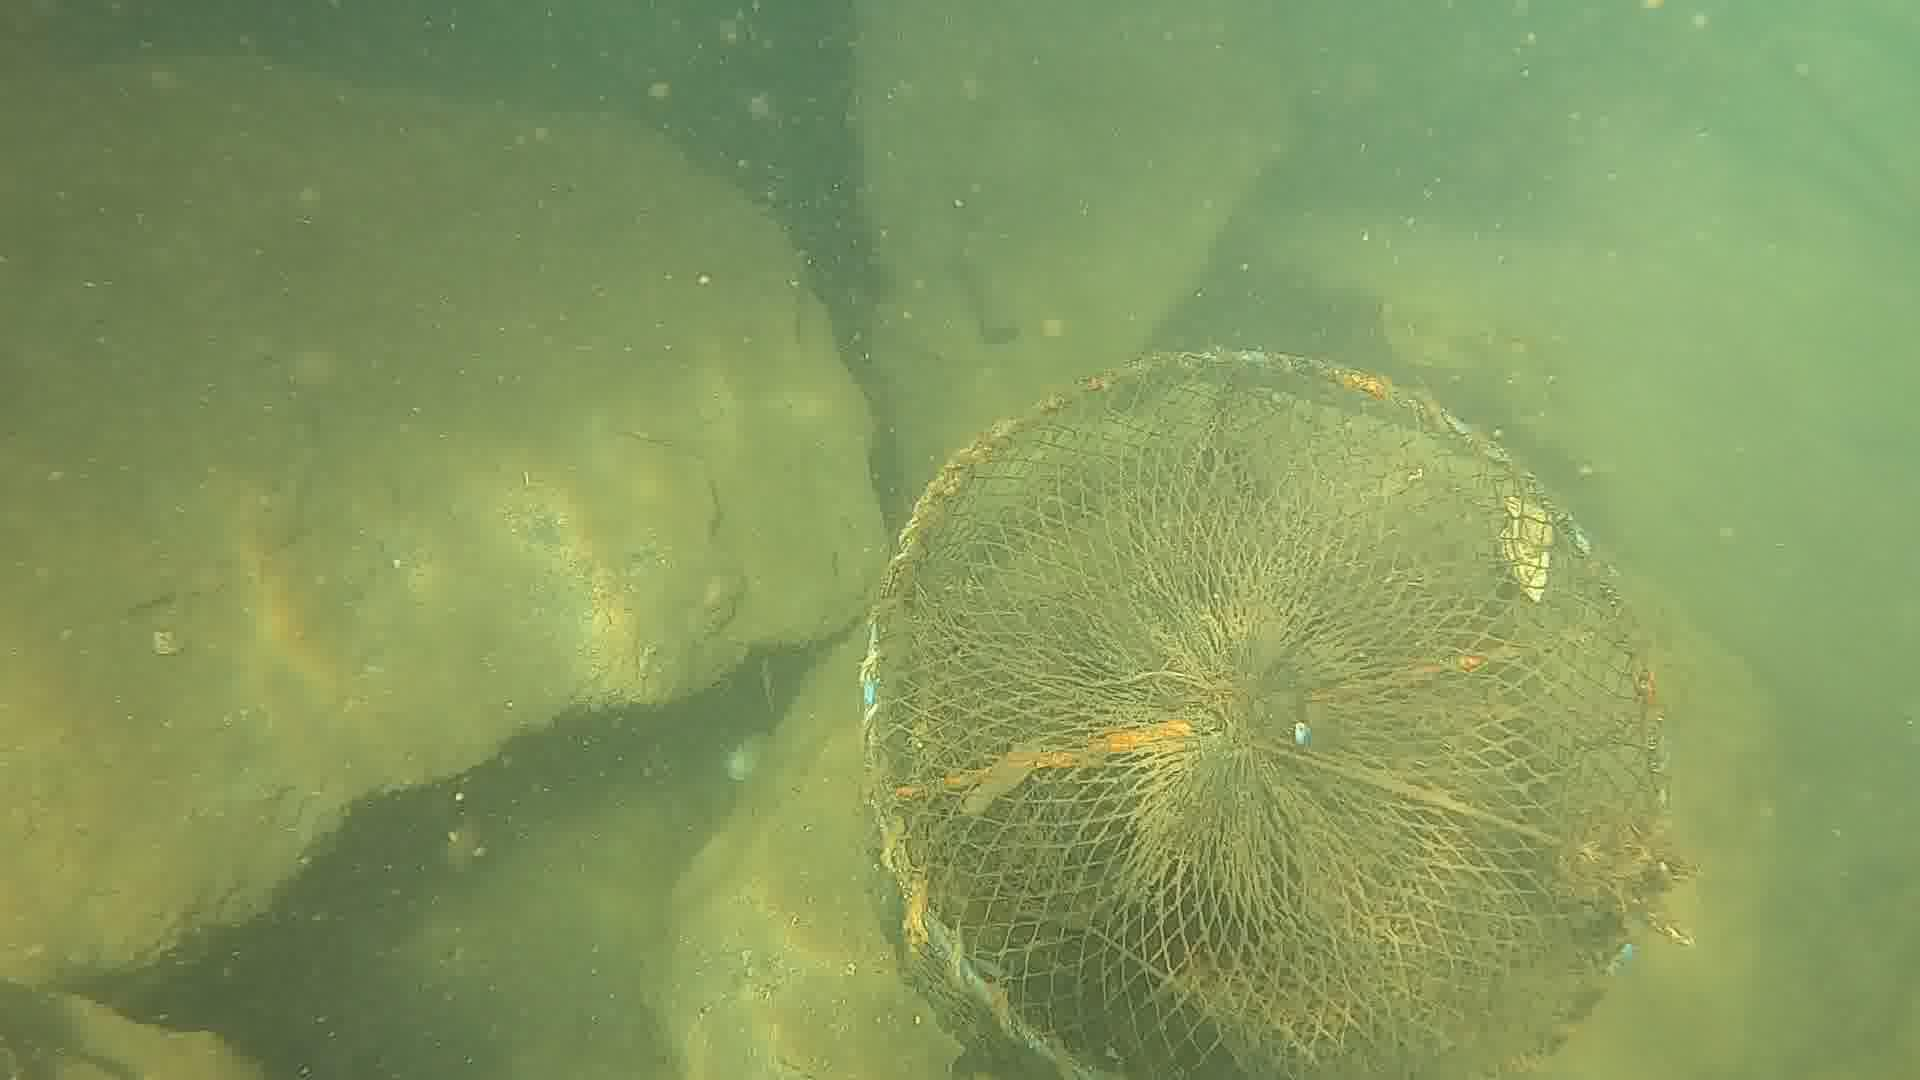circular fish trap: (855, 348, 1673, 1080)
